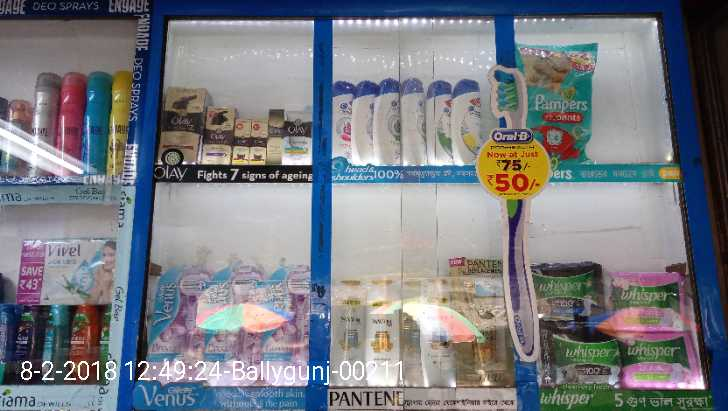venus: (250, 264, 310, 384), (144, 266, 199, 383), (199, 266, 250, 384)
